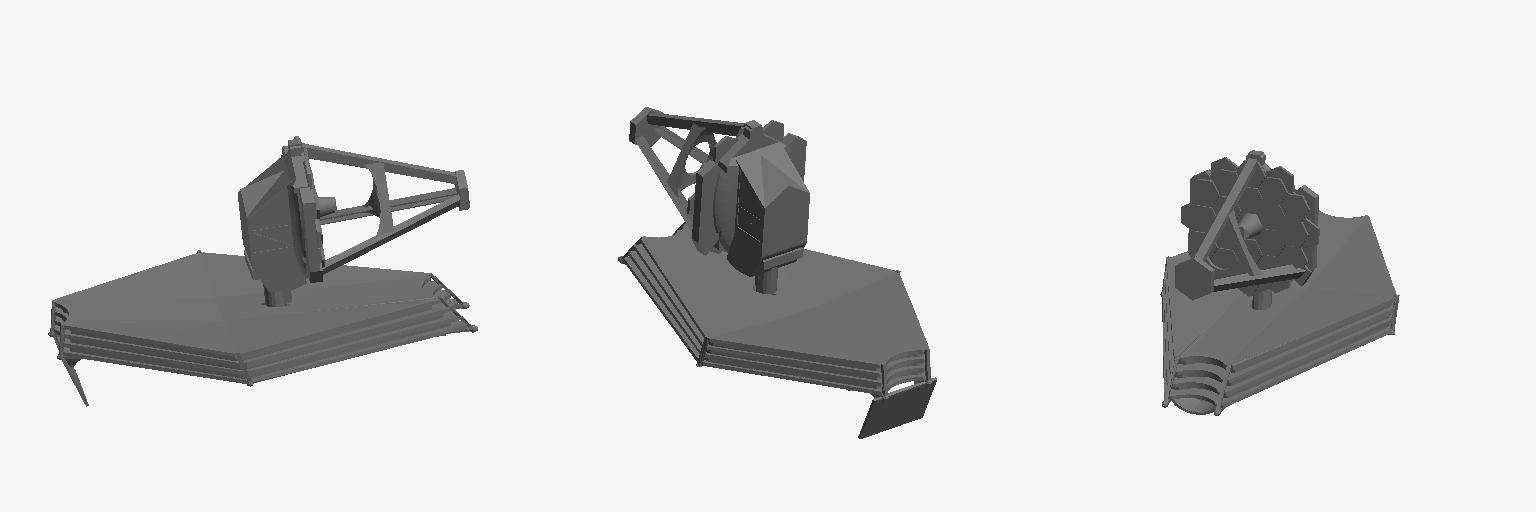
The model's file is JWST.obj.
The picture shows the model from 3 angles: view 1: azimuth 30°, elevation 25°; view 2: azimuth 150°, elevation 25°; view 3: azimuth 270°, elevation 25°; orthographic projection.
Visible parts, largest first — view 1: JWST:STL_BINARY_, JWST:STL_BINARY_1; view 2: JWST:STL_BINARY_, JWST:STL_BINARY_1; view 3: JWST:STL_BINARY_, JWST:STL_BINARY_1.
Boxes of the visible parts, x1,y1,x2,y2 form: JWST:STL_BINARY_: [48, 250, 477, 406]; JWST:STL_BINARY_1: [238, 136, 469, 306]; JWST:STL_BINARY_: [618, 222, 936, 438]; JWST:STL_BINARY_1: [629, 107, 809, 295]; JWST:STL_BINARY_: [1160, 210, 1399, 415]; JWST:STL_BINARY_1: [1175, 150, 1319, 309].
Size of the model in its own units: 18.99 by 11.7 by 10.84.